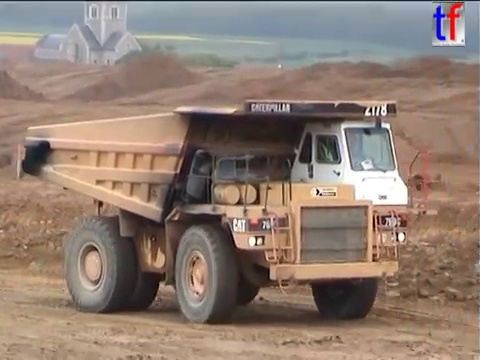truck: (15, 94, 434, 327)
